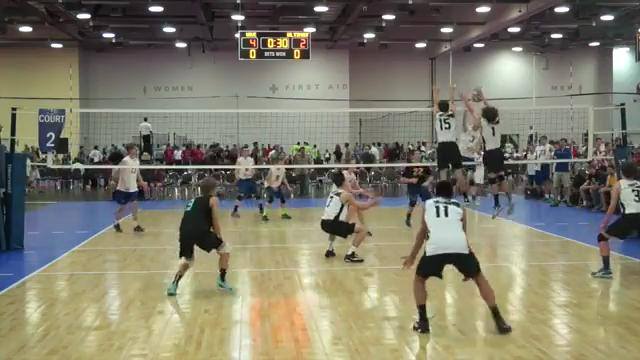Attack: (459, 100, 482, 205)
Block: (460, 83, 519, 224), (424, 80, 472, 203)
Player: (403, 181, 511, 333), (167, 178, 231, 295), (591, 162, 639, 277), (320, 171, 376, 262), (112, 144, 147, 232), (231, 145, 263, 216), (399, 166, 431, 226), (262, 154, 291, 220), (342, 167, 375, 197)
ball: (469, 86, 484, 103)
